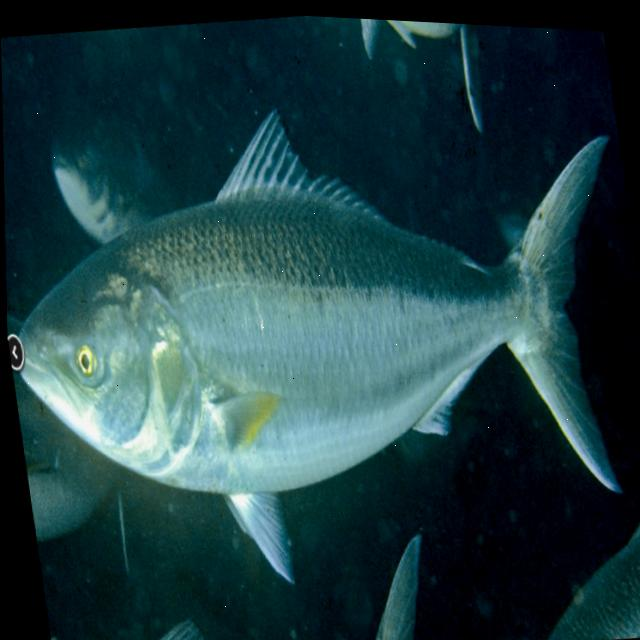Australian Salmon: (1, 47, 640, 577)
